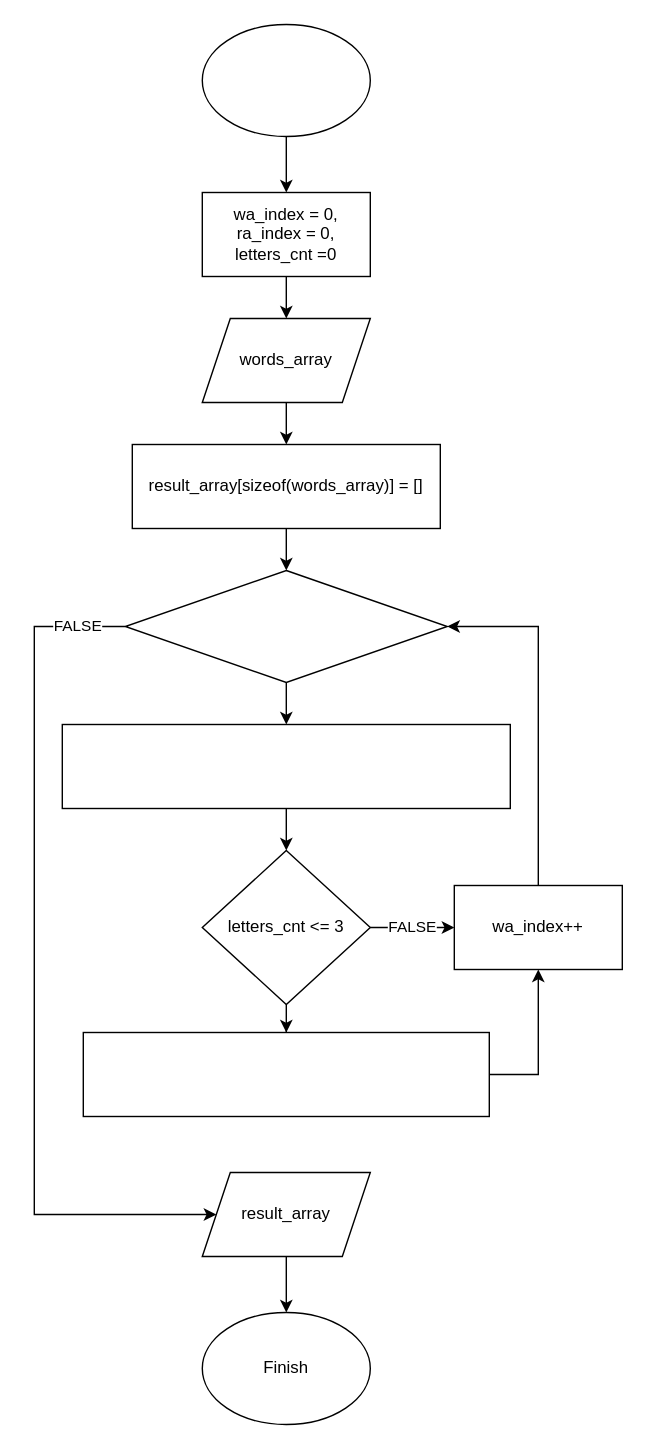
This 647x1449 diagram has some shape labels left out. Each missing label, with the centre of its shape:
"letters_cnt = count_word_letters(words_array[wa_index])" belongs at (285,765).
"result_array[ra_index++] = words_array[wa_index]" belongs at (285,1073).
"Start" belongs at (285,79).
"wa_index < sizeof(words_array)" belongs at (285,625).
